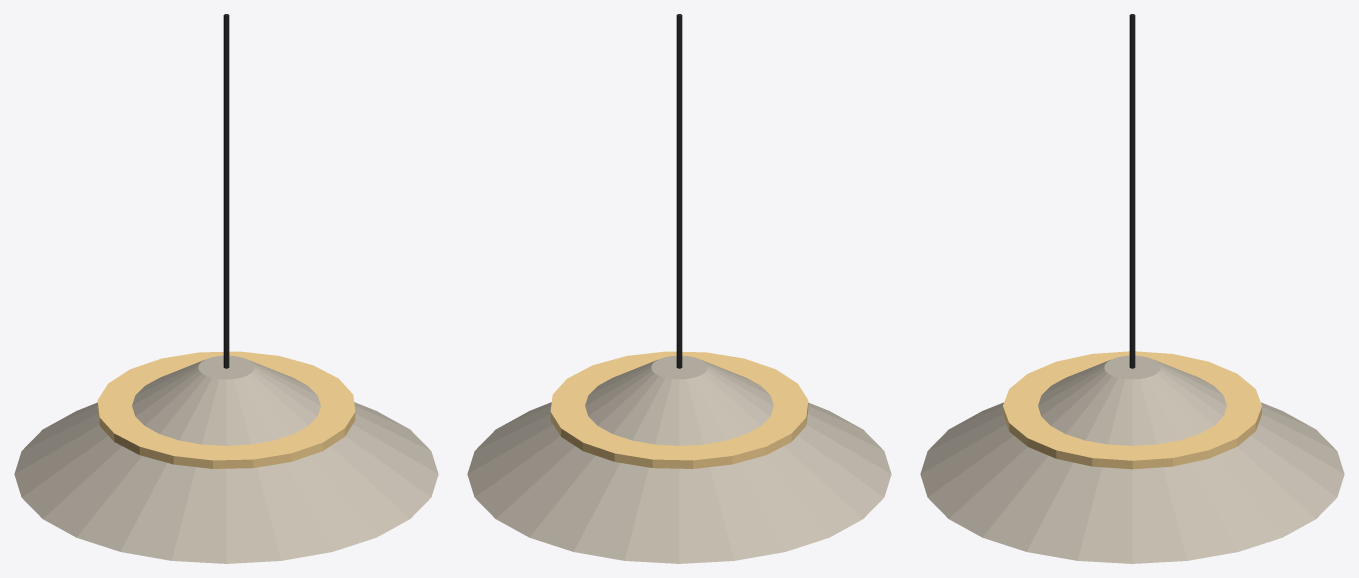
File: PendantLamp.fbx
The picture shows the model from 3 angles, left to right: view 1: azimuth 30°, elevation 25°; view 2: azimuth 150°, elevation 25°; view 3: azimuth 270°, elevation 25°; orthographic projection.
Parts seen in each view (by area): view 1: PendantLamp; view 2: PendantLamp; view 3: PendantLamp.
Boxes of the visible parts, left/top/right/bottom form: PendantLamp: left=14, top=14, right=438, bottom=563; PendantLamp: left=467, top=14, right=891, bottom=563; PendantLamp: left=920, top=14, right=1344, bottom=563.
Bounding box in the file's own units: 1.8 × 2.15 × 1.8.
